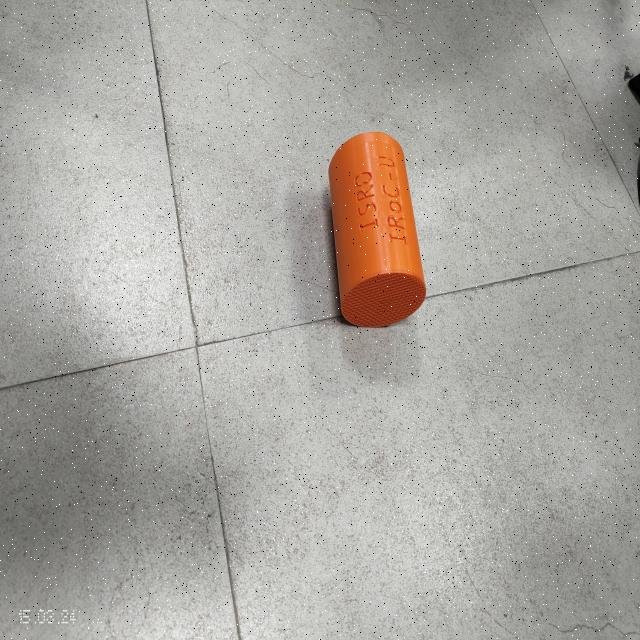Cylinder: (328, 130, 427, 328)
